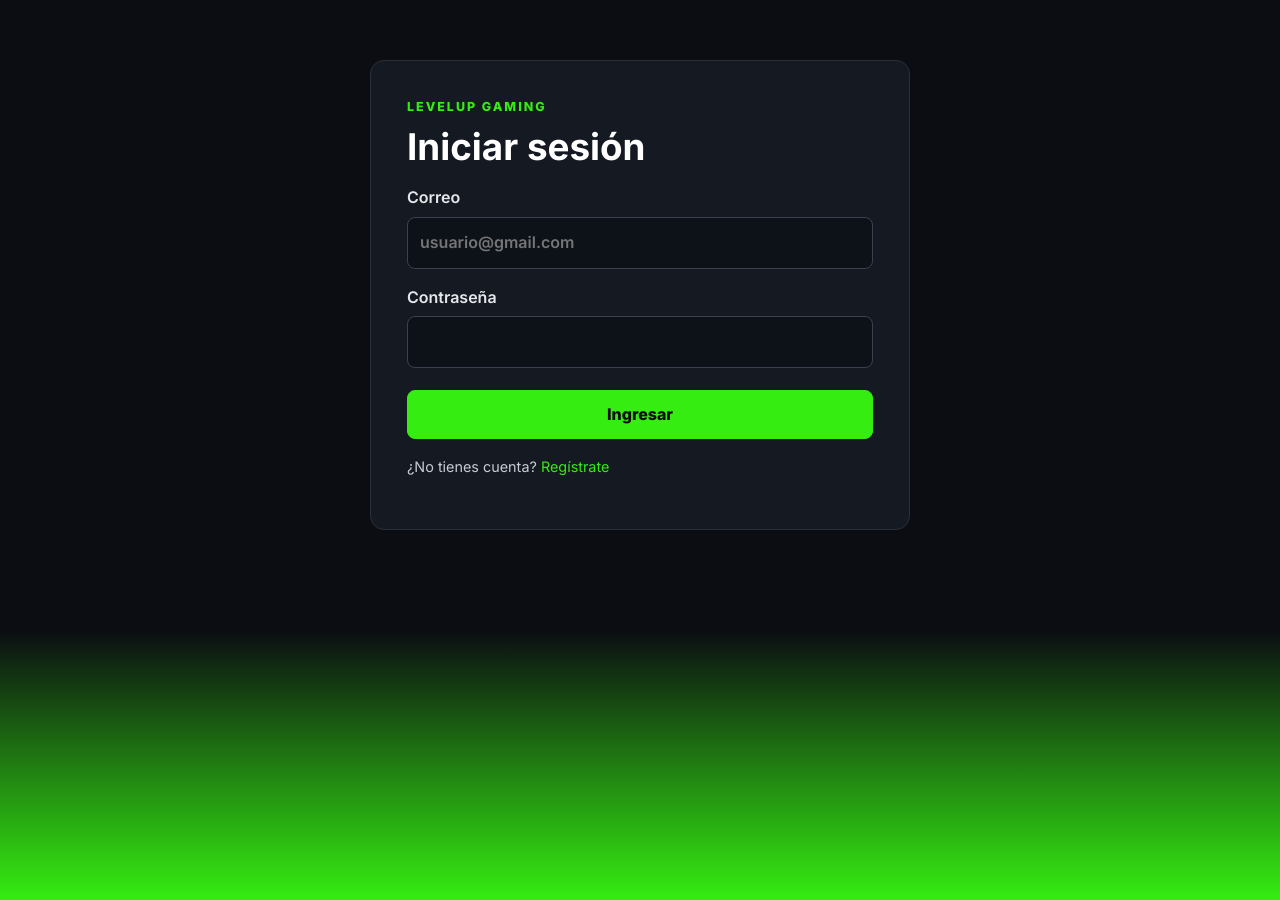
Test: validación del correo en Formulario › muestra un error si el correo no pertenece a un dominio permitido
Type "usuario@outlook.com" into the field labelled "Correo" at {"x": 640, "y": 243}, box [407,217,873,269]
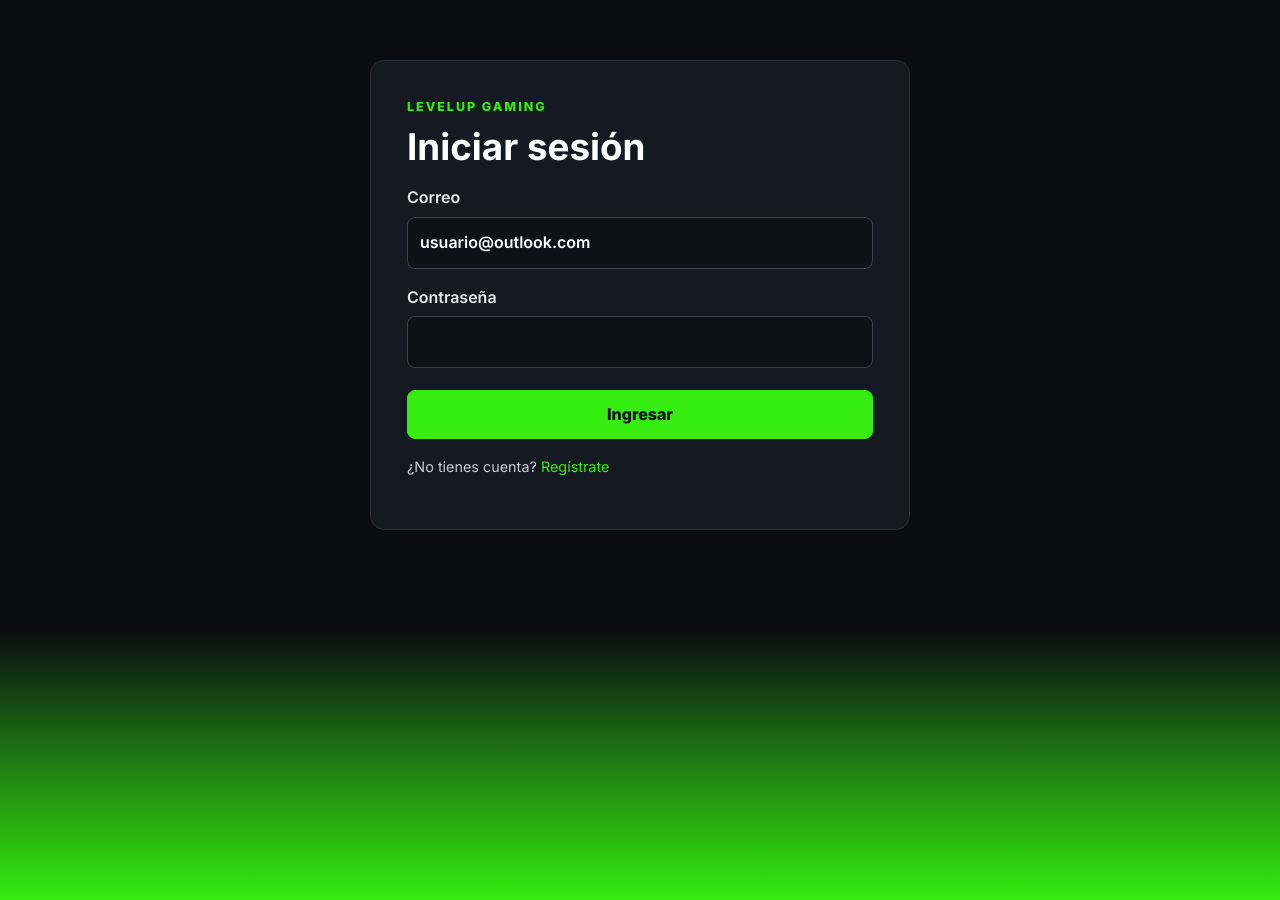
Type "clave123" into the password field labelled "Contraseña" at {"x": 640, "y": 342}, box [407,316,873,368]
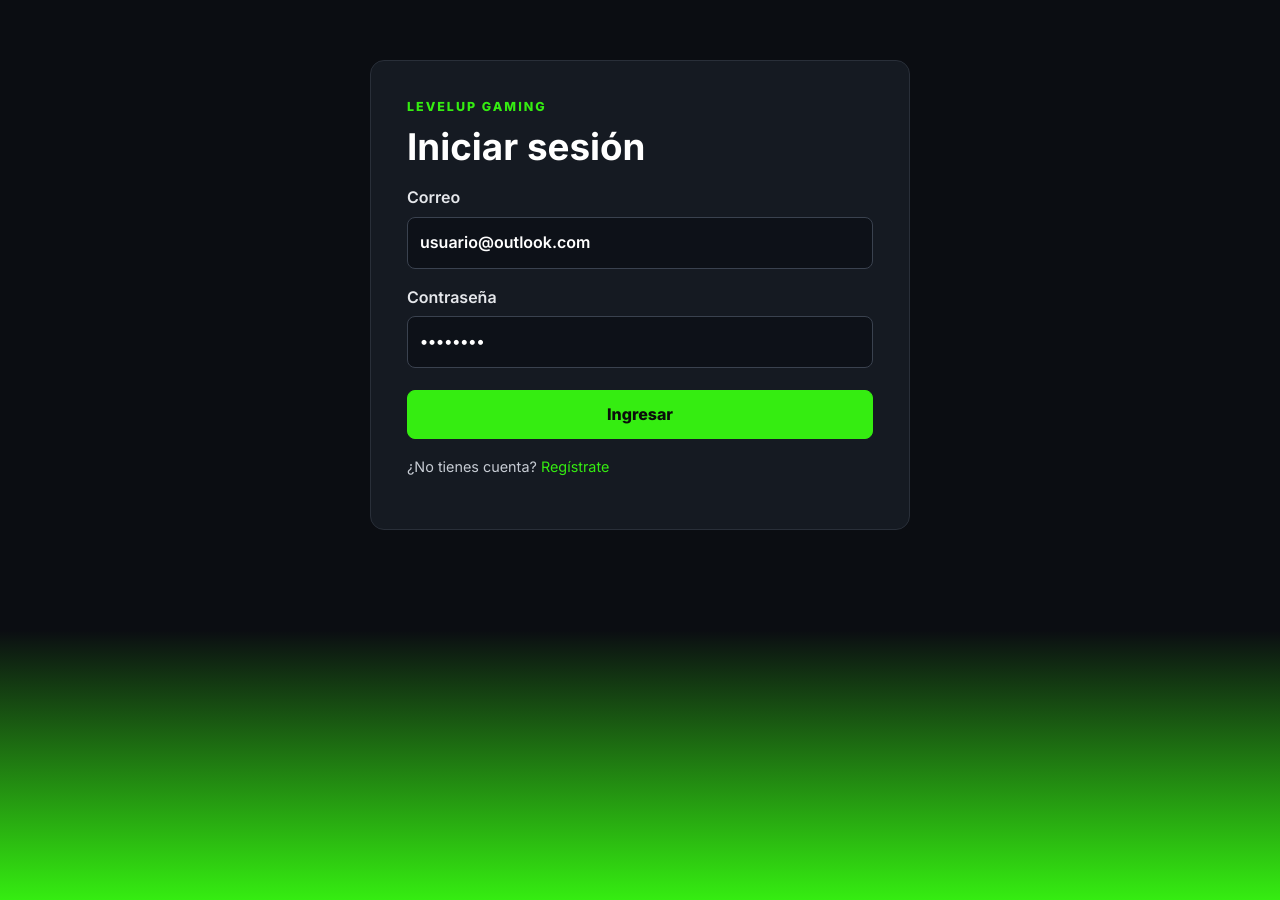
Click the button "Ingresar" at {"x": 640, "y": 415}, box [407,390,873,439]
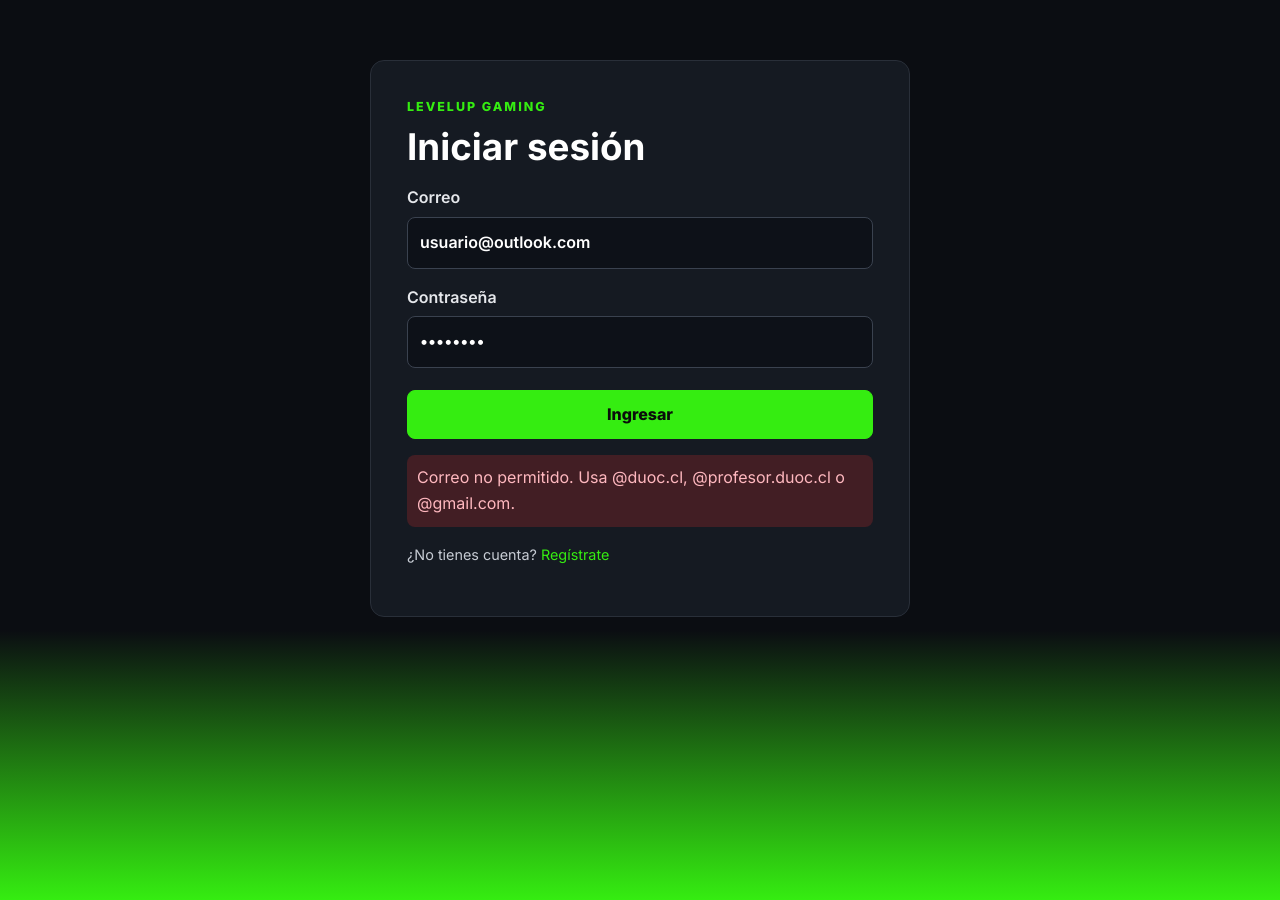
Check: the message reads "Correo no permitido. Usa @duoc.cl, @profesor.duoc.cl o @gmail.com.", box [417,467,845,513]
